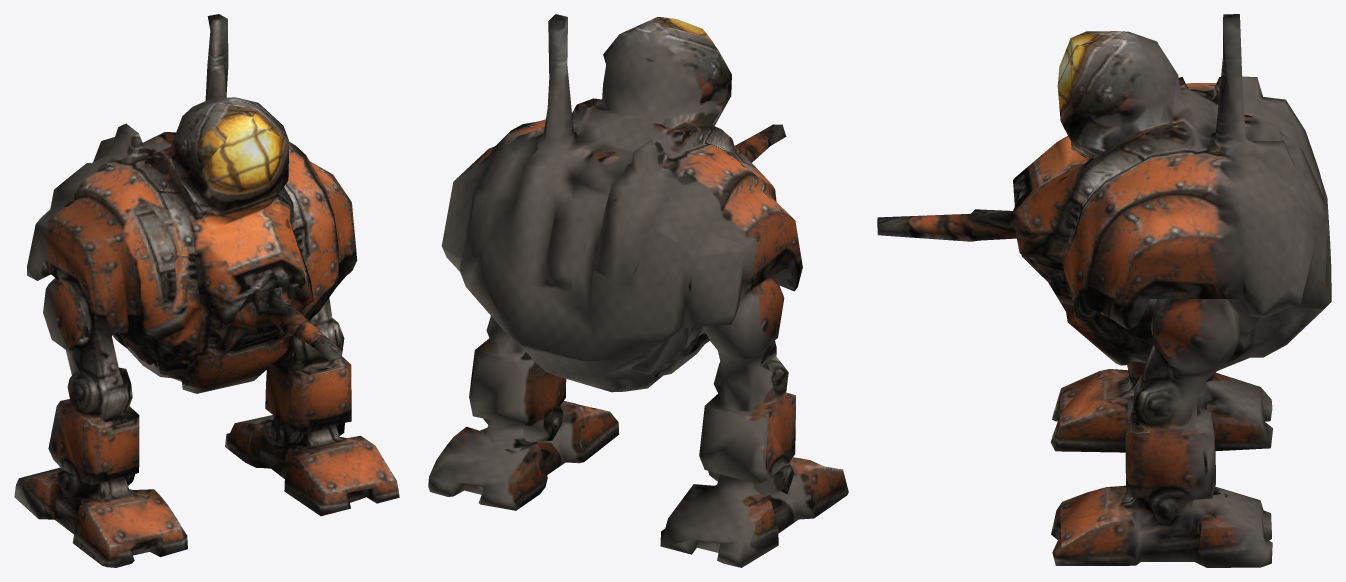
File: spotlamp_lod2.glb
3 renders of one model, left to right at view 1: azimuth 30°, elevation 25°; view 2: azimuth 150°, elevation 25°; view 3: azimuth 270°, elevation 25°, orthographic. The views are drawn at different scales.
Parts seen in each view (by area): view 1: geometry_0; view 2: geometry_0; view 3: geometry_0.
Boxes of the visible parts, x1=… form: geometry_0: x1=14, y1=14, x2=399, y2=567; geometry_0: x1=428, y1=14, x2=848, y2=567; geometry_0: x1=877, y1=14, x2=1331, y2=567.
Size of the model in its own units: 1.39 by 1.99 by 1.66.
Materials: 1 (1 with a texture image).
